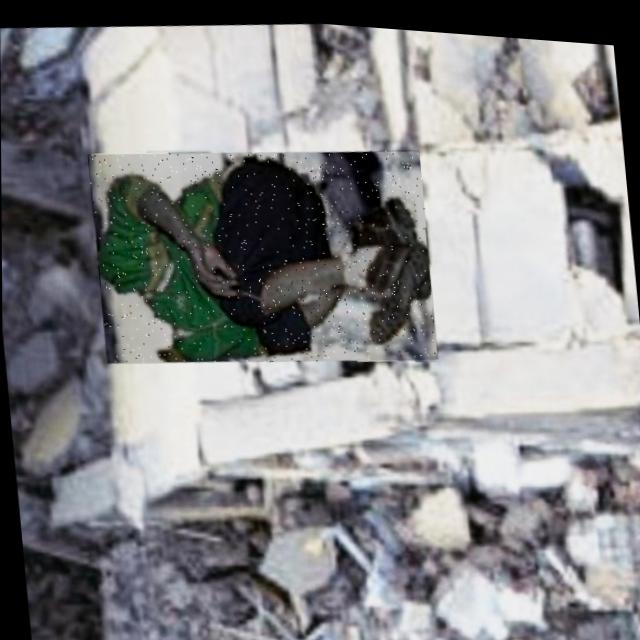Person in Rubble: (87, 123, 438, 380)
